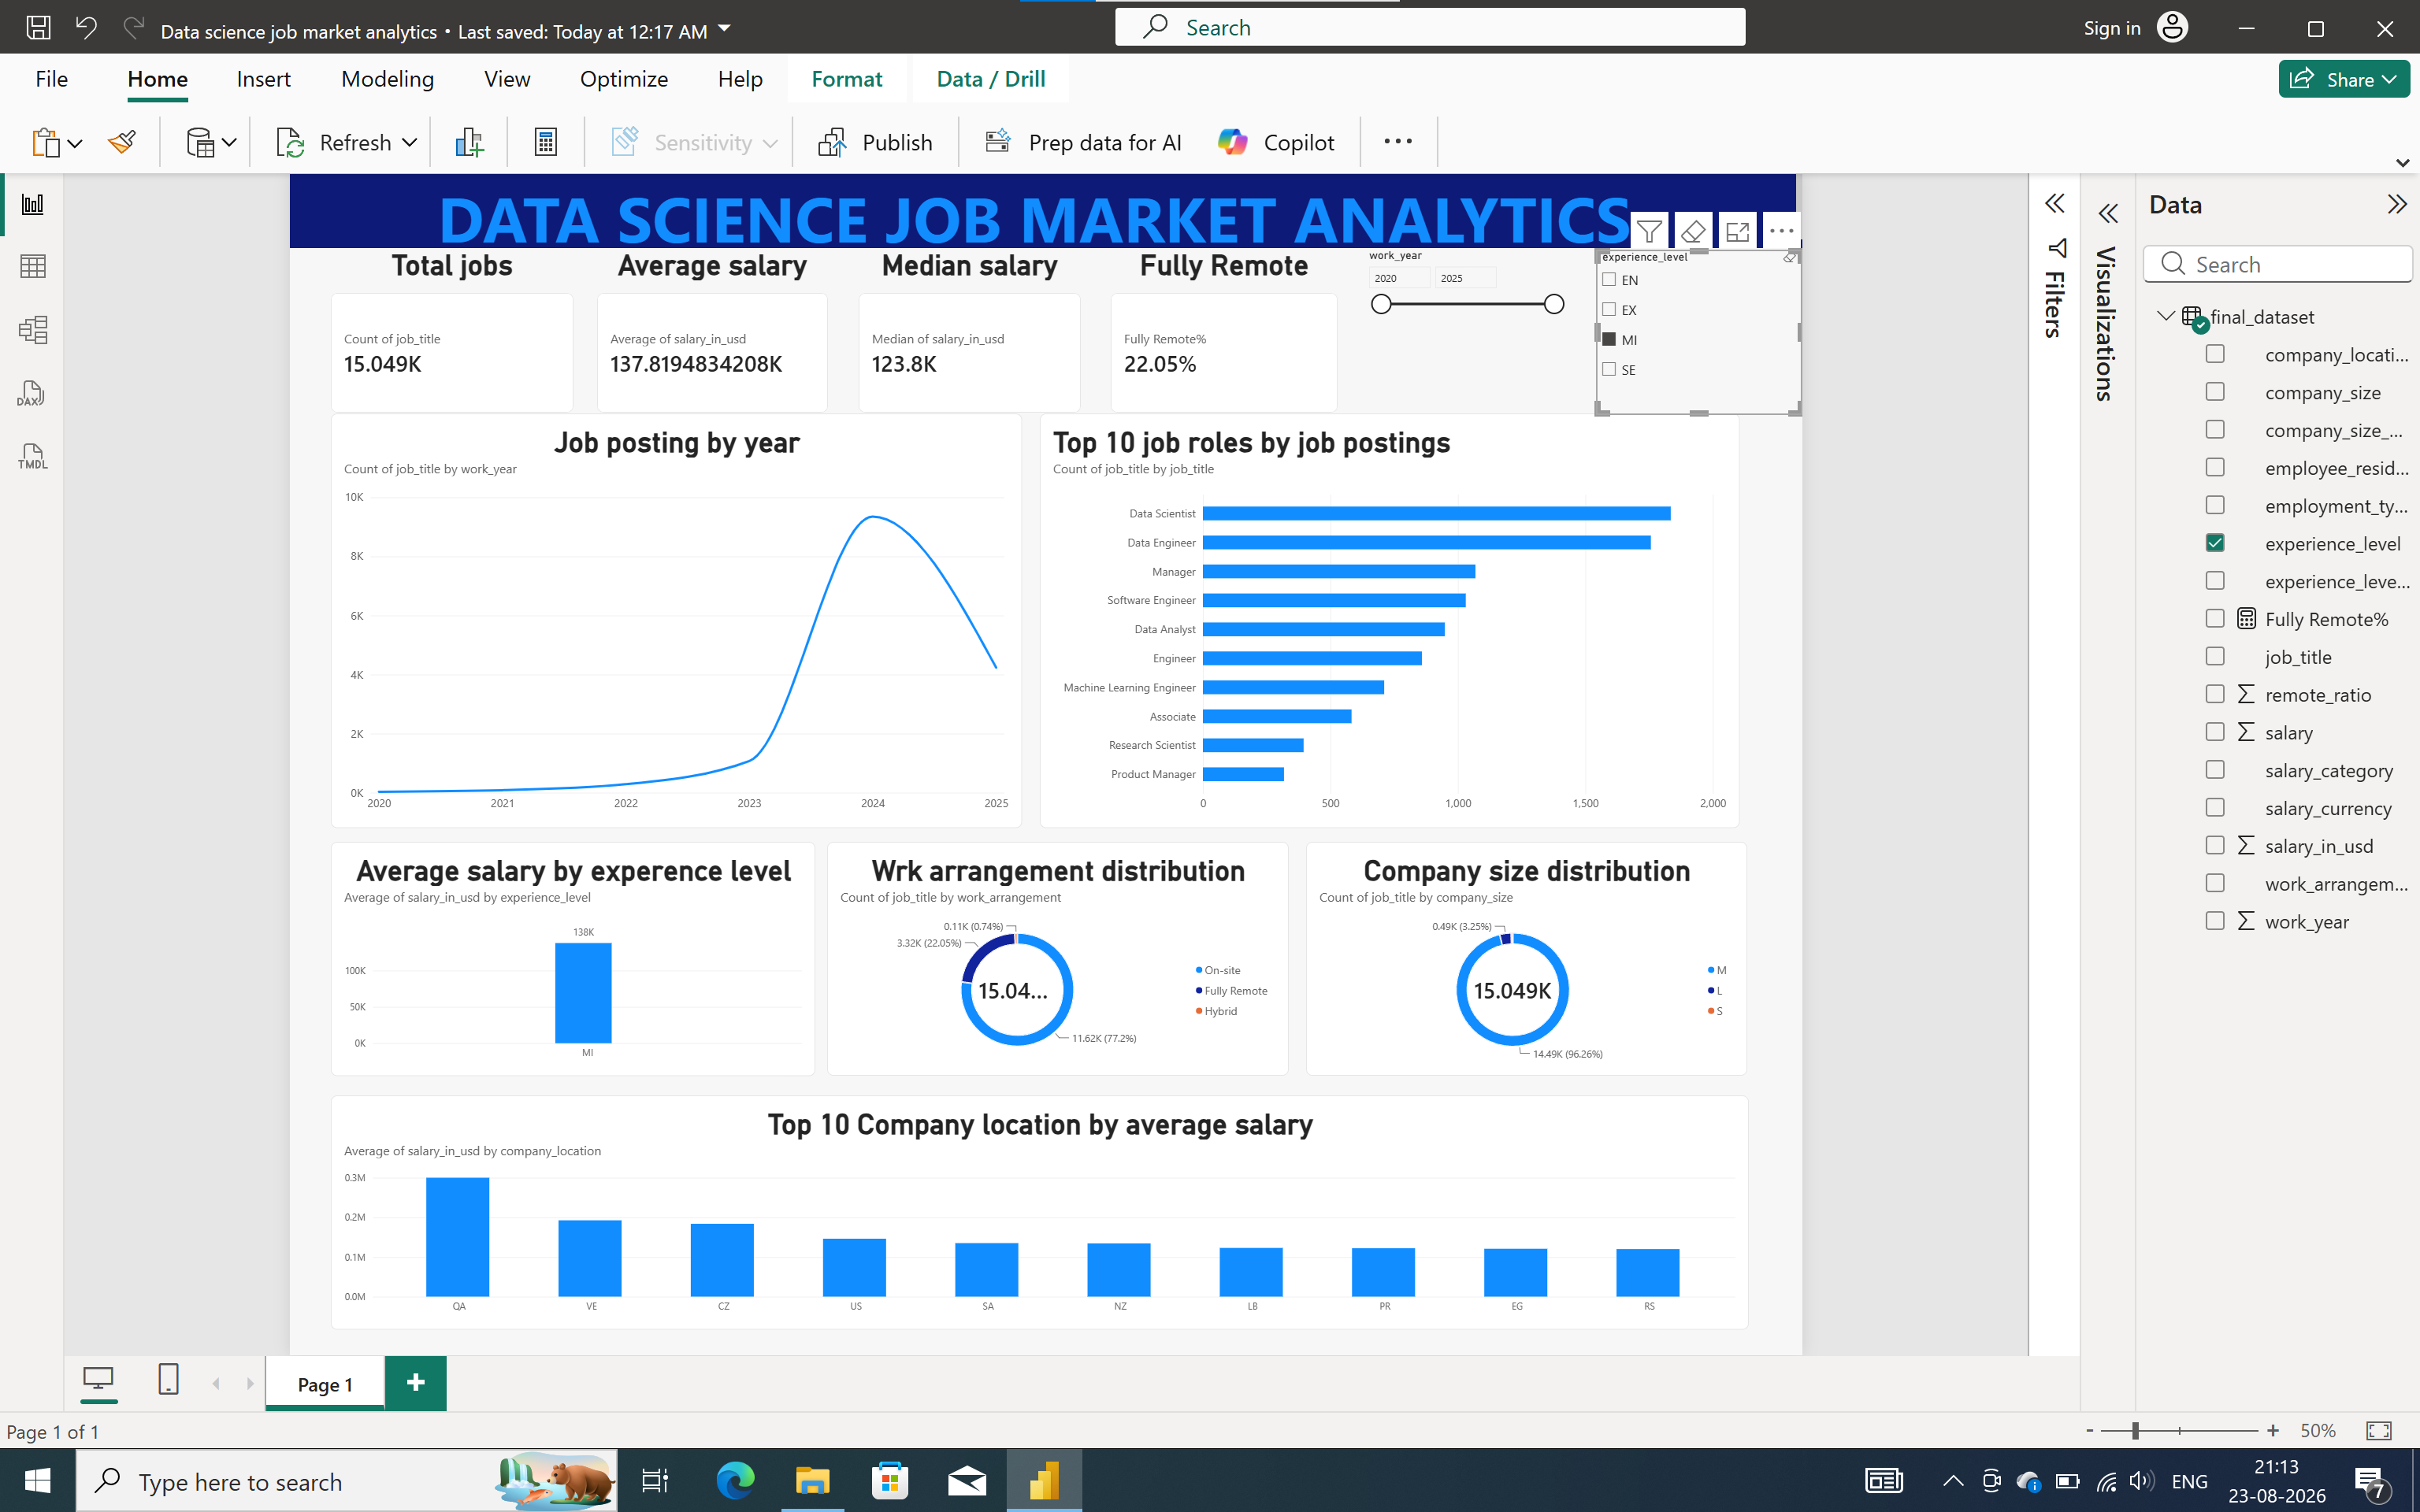

This screenshot's page, from the dashboard's own definition file:
{"tool":"powerbi","page":{"name":"Page 1","canvas":[1920,1500],"ordinal":0},"visuals":[{"type":"cardVisual","title":"Average salary","fields":{"Data":["Avg(final_dataset.salary_in_usd)"]},"box":[389.6,94.2,293.2,209.8],"z":1},{"type":"cardVisual","title":"Median salary","fields":{"Data":["Median(final_dataset.salary_in_usd)"]},"box":[721.3,94.2,282.5,209.8],"z":3},{"type":"cardVisual","title":"Fully Remote","fields":{"Data":["final_dataset.Fully Remote%"]},"box":[1042.4,94.2,289,209.8],"z":4},{"type":"lineChart","title":"Job posting by year ","fields":{"Category":["final_dataset.work_year"],"Y":["CountNonNull(final_dataset.job_title)"]},"box":[51.4,303.9,877.6,526.6],"z":5},{"type":"clusteredBarChart","title":"Top 10 job roles by job postings","fields":{"Category":["final_dataset.job_title"],"Y":["CountNonNull(final_dataset.job_title)"]},"box":[952.5,303.9,888.3,526.6],"z":6},{"type":"clusteredColumnChart","title":"Average salary by experence level ","fields":{"Category":["final_dataset.experience_level"],"Y":["Avg(final_dataset.salary_in_usd)"]},"box":[51.4,847.6,615.2,297.7],"z":7},{"type":"donutChart","title":"Wrk arrangement distribution","fields":{"Category":["final_dataset.work_arrangement"],"Y":["CountNonNull(final_dataset.job_title)"]},"box":[682.8,847.6,586,297],"z":8},{"type":"cardVisual","title":"Total jobs","fields":{"Data":["CountNonNull(final_dataset.job_title)"]},"box":[51.4,94.2,308.2,209.8],"z":9},{"type":"donutChart","title":"Company size distribution ","fields":{"Category":["final_dataset.company_size"],"Y":["CountNonNull(final_dataset.job_title)"]},"box":[1290.7,847.6,560,297],"z":10},{"type":"clusteredColumnChart","title":"Top 10 Company location by average  salary","fields":{"Category":["final_dataset.company_location"],"Y":["Avg(final_dataset.salary_in_usd)"]},"box":[51.4,1170.8,1800.1,297.5],"z":11},{"type":"textbox","box":[0,0,1920,94.2],"z":12},{"type":"slicer","fields":{"Values":["final_dataset.work_year"]},"box":[1362,94,259,209.8],"z":13},{"type":"slicer","fields":{"Values":["final_dataset.experience_level"]},"box":[1658,96,262,210],"z":14}]}

Visuals, with their boxes on the page's 1920x1500 design canvas (x1, y1, x2, y2). These are canvas units, not pixel positions in the 2420x1512 screenshot, which may show the page scaled, cropped or inside an application window:
"Average salary" cardVisual: 390:94:683:304
"Median salary" cardVisual: 721:94:1004:304
"Fully Remote" cardVisual: 1042:94:1331:304
"Job posting by year " lineChart: 51:304:929:830
"Top 10 job roles by job postings" clusteredBarChart: 952:304:1841:830
"Average salary by experence level " clusteredColumnChart: 51:848:667:1145
"Wrk arrangement distribution" donutChart: 683:848:1269:1145
"Total jobs" cardVisual: 51:94:360:304
"Company size distribution " donutChart: 1291:848:1851:1145
"Top 10 Company location by average  salary" clusteredColumnChart: 51:1171:1852:1468
textbox: 0:0:1920:94
slicer - final_dataset.work_year: 1362:94:1621:304
slicer - final_dataset.experience_level: 1658:96:1920:306
